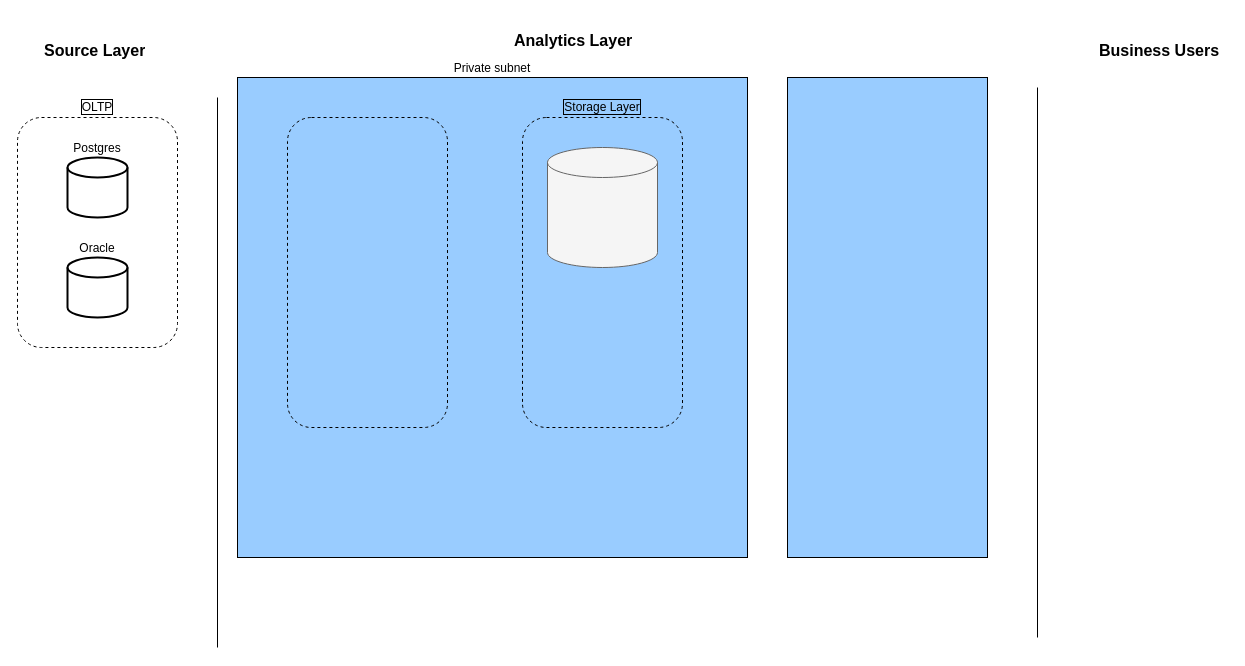
Some shapes in this 1245 by 666 pixel diagram are drawn without their labels. Each missing label, with the centre of its shape:
Data Warehouse: the point at 602,207
Processing Layer: the point at 367,272
Public subnet: the point at 887,317
